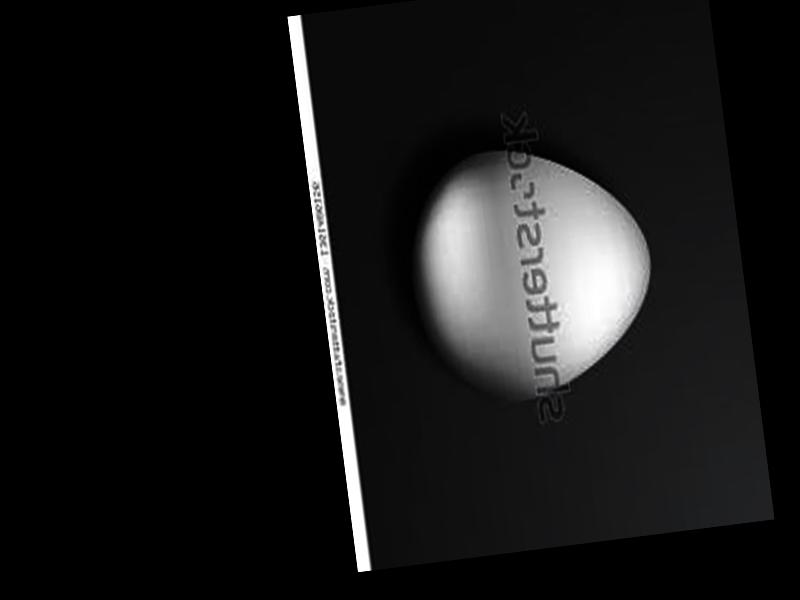Eggs: (400, 132, 667, 411)
